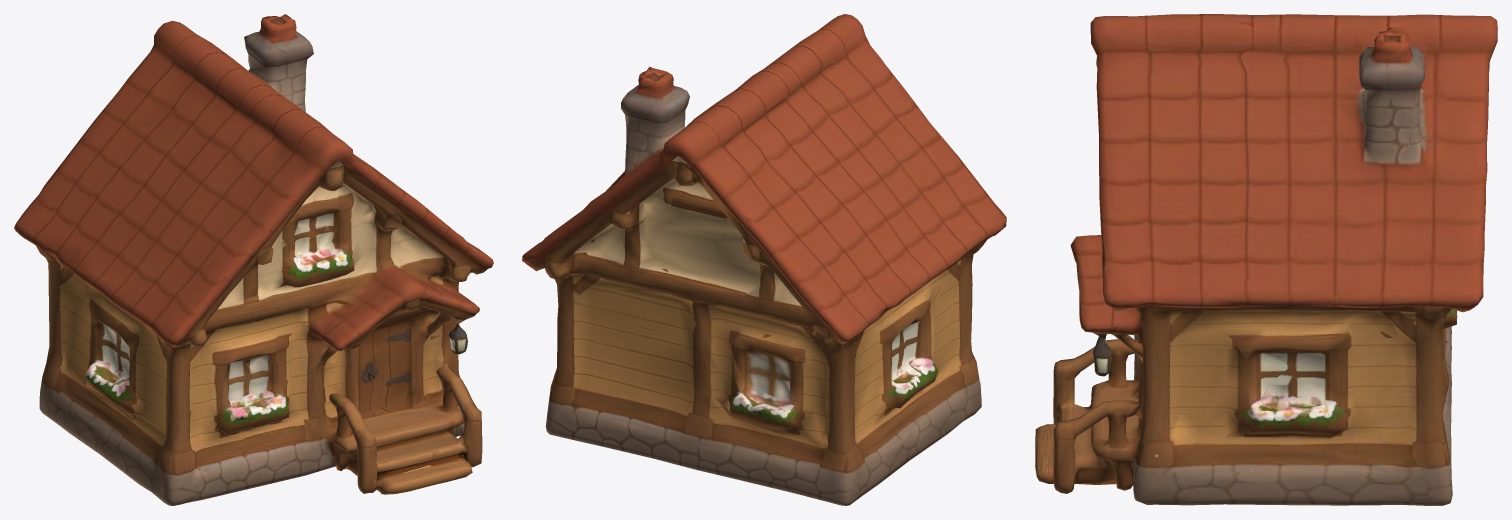
3 renders of one model, left to right at view 1: azimuth 30°, elevation 25°; view 2: azimuth 150°, elevation 25°; view 3: azimuth 270°, elevation 25°, orthographic. The views are drawn at different scales.
Visible parts, largest first — view 1: house-wood; view 2: house-wood; view 3: house-wood.
Part boxes in pixels (x1=…): house-wood: x1=14, y1=14, x2=493, y2=505; house-wood: x1=522, y1=14, x2=1006, y2=505; house-wood: x1=1035, y1=14, x2=1497, y2=505.
Size of the model in its own units: 5.7 by 6 by 5.93.
1 material, 1 textured.
